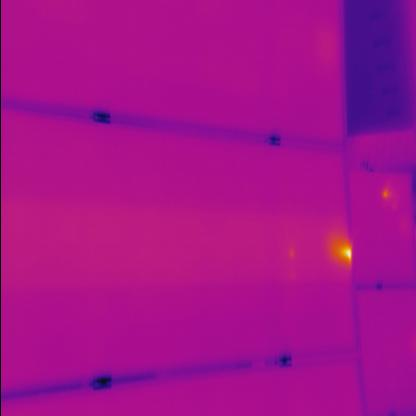hotspot: (335, 240, 355, 264)
